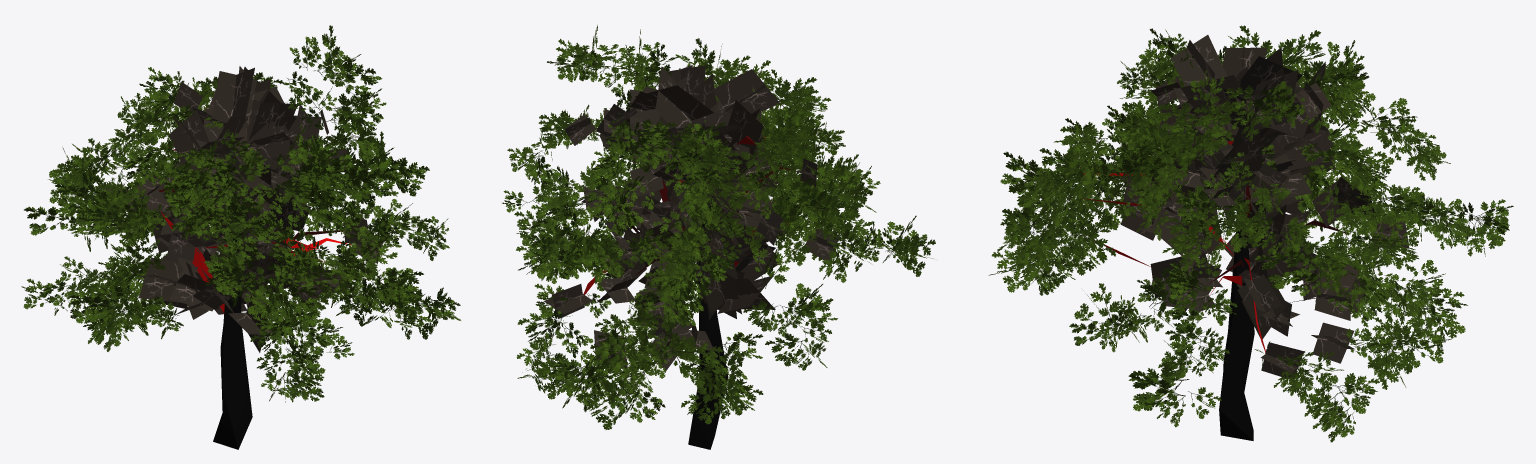
File: maple4 lod1.FBX
The picture shows the model from 3 angles, left to right: view 1: azimuth 30°, elevation 25°; view 2: azimuth 150°, elevation 25°; view 3: azimuth 270°, elevation 25°; orthographic projection. The views are drawn at different scales.
Visible parts, largest first — view 1: maple4_LOD1; view 2: maple4_LOD1; view 3: maple4_LOD1.
Boxes of the visible parts, x1,y1,x2,y2 form: maple4_LOD1: (21,25,460,449); maple4_LOD1: (502,25,935,449); maple4_LOD1: (988,25,1513,442).
Size of the model in its own units: 135159 by 120394 by 141129.
